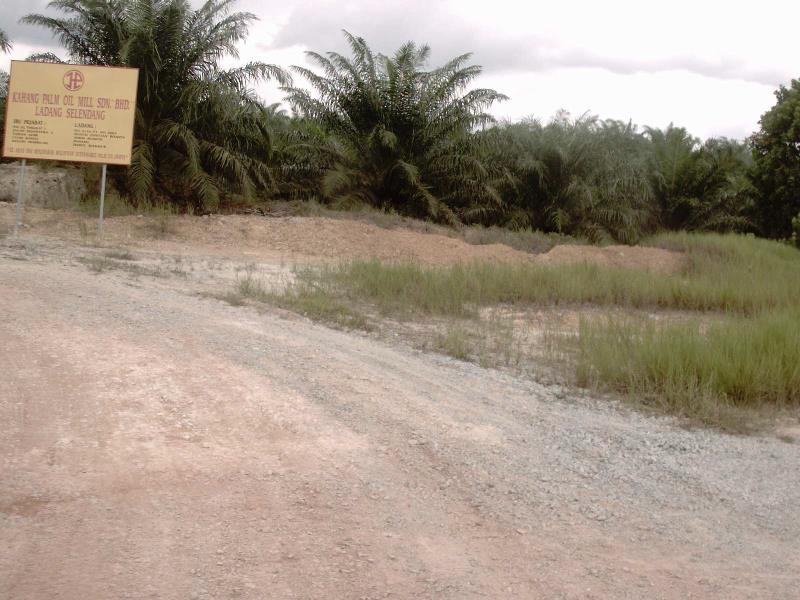ads_sign: (0, 54, 148, 173)
